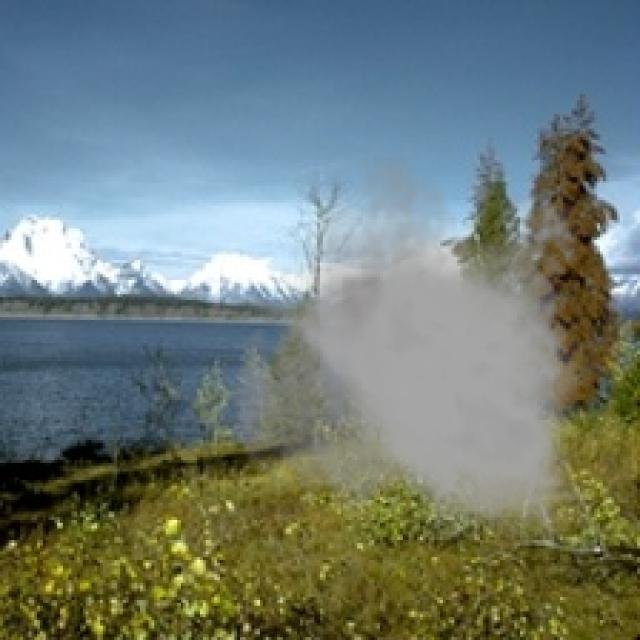smoke: (228, 157, 588, 546)
